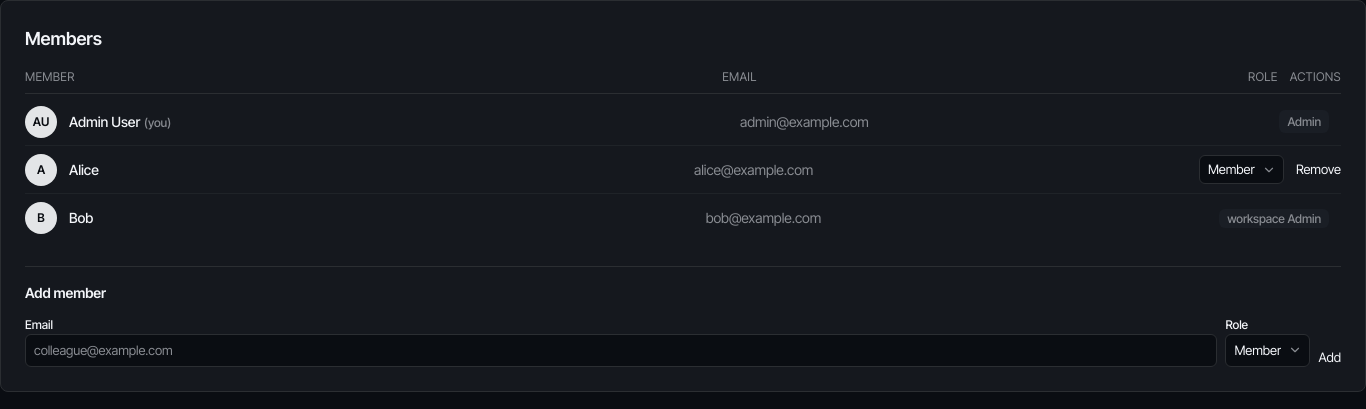
Scenario: ProjectMembersSection — remove flow › cancelling remove hides confirm/cancel and shows remove button again
This screenshot has width=1366, height=409.
Click the button with test id "remove-btn-pm-2" at coordinates (1318, 170), box [1296, 160, 1341, 179]
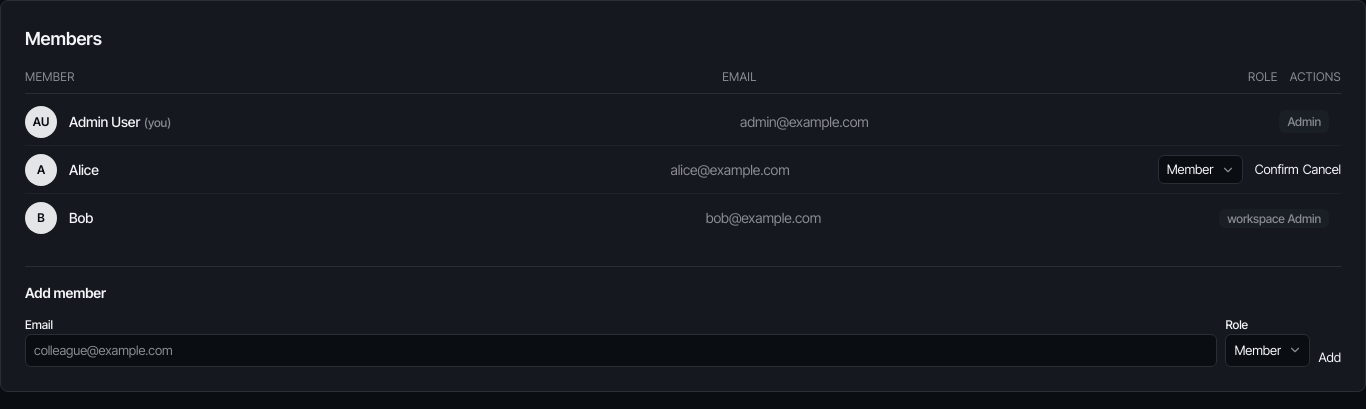
Click the button with test id "cancel-remove-pm-2" at coordinates (1322, 170), box [1303, 160, 1341, 179]
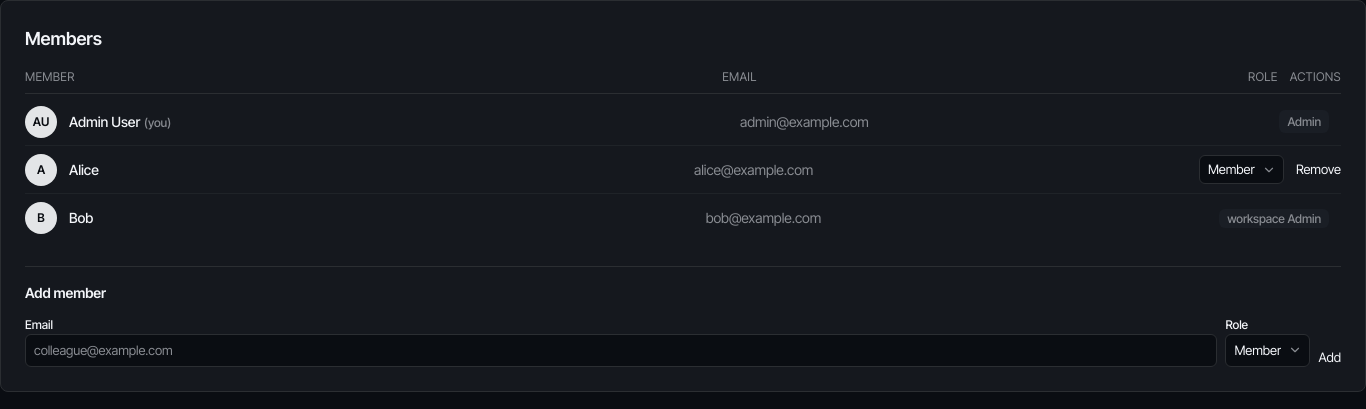
Result: the button with test id "remove-btn-pm-2" is shown at [1296, 160, 1341, 179]
Result: the button with test id "confirm-remove-pm-2" is gone
